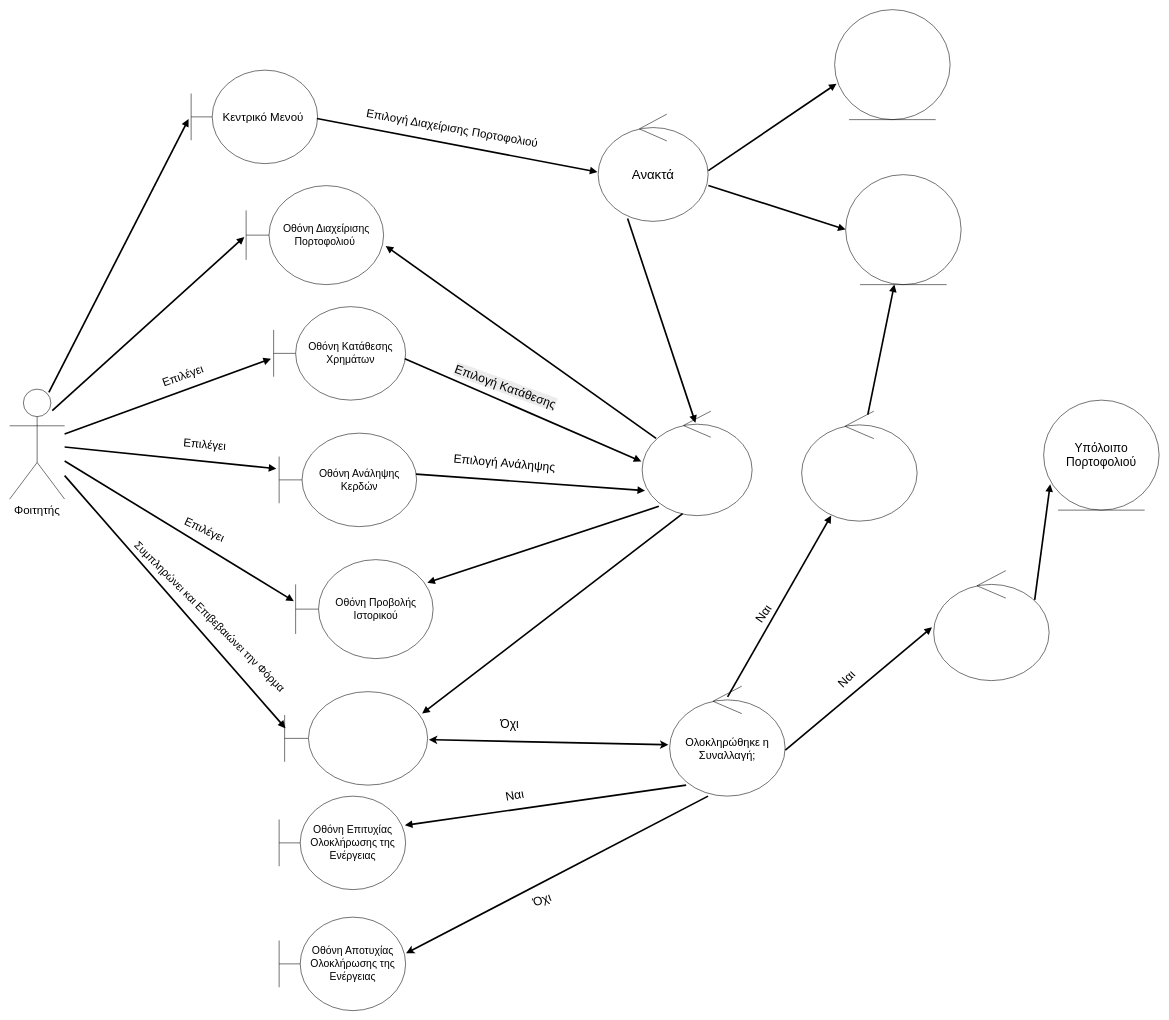
The diagram is 1169 pixels wide and 1020 high, and some of its shapes have lost their labels. Each missing label, with the centre of its shape:
Διαθέσιμο Υπόλοιπο: point (892, 64)
Εμφανίζει: point (697, 463)
Ενημέρωσε: point (991, 625)
Ιστορικό Συναλλαγών: point (903, 229)
Καταχώρησε: point (859, 466)
Οθόνη Φόρμας Συναλλαγής: point (356, 738)
